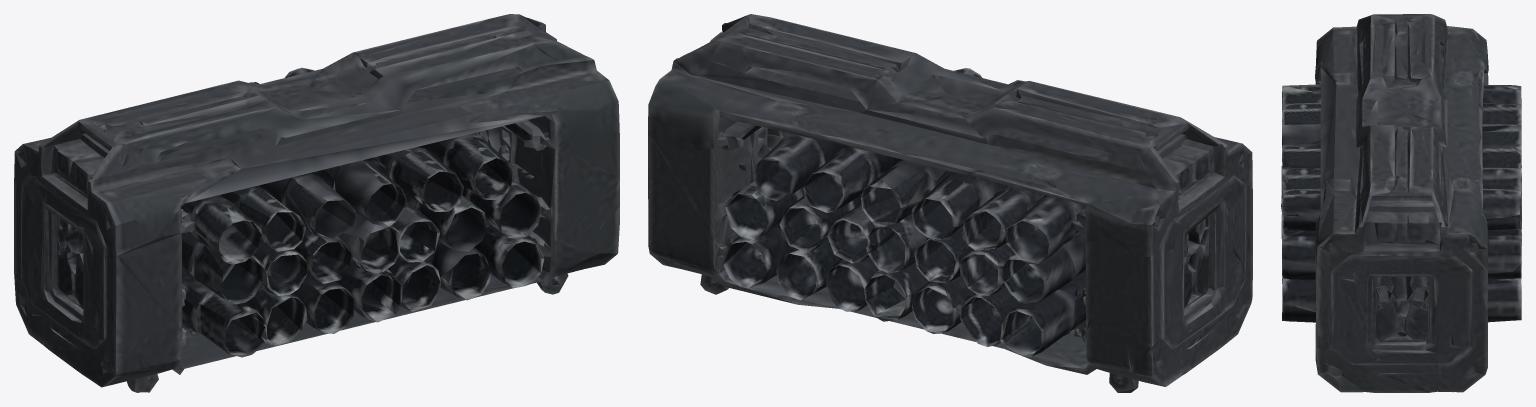
File: wm_mpod.glb
3 renders of one model, left to right at view 1: azimuth 30°, elevation 25°; view 2: azimuth 150°, elevation 25°; view 3: azimuth 270°, elevation 25°, orthographic. The views are drawn at different scales.
Bounding box in the file's own units: 1.9 × 0.8713 × 0.9248.
1 material, 1 textured.
